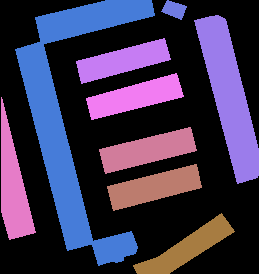parkingspot: (15, 41, 93, 250), (194, 15, 259, 183), (133, 213, 234, 274), (35, 0, 154, 44), (1, 97, 35, 239), (86, 73, 183, 119), (99, 127, 196, 173), (107, 164, 201, 210), (76, 38, 170, 83), (91, 231, 137, 265), (161, 0, 186, 19)
